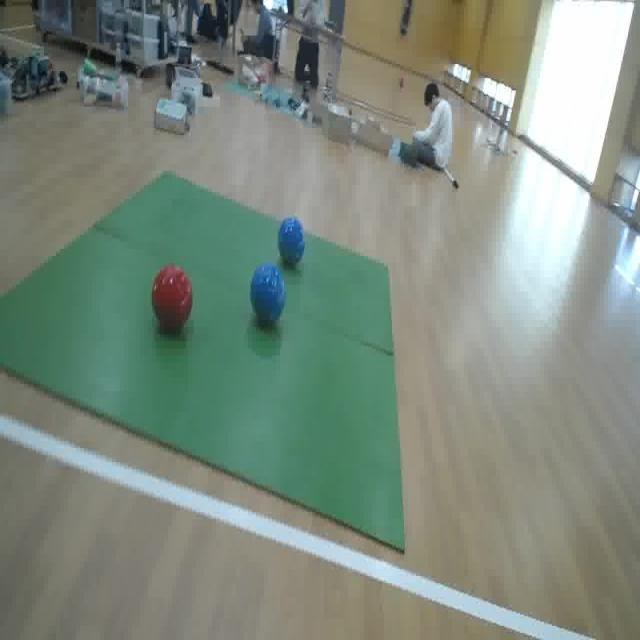blue_ball: (248, 256, 288, 332), (278, 214, 307, 271)
red_ball: (152, 260, 194, 337)
